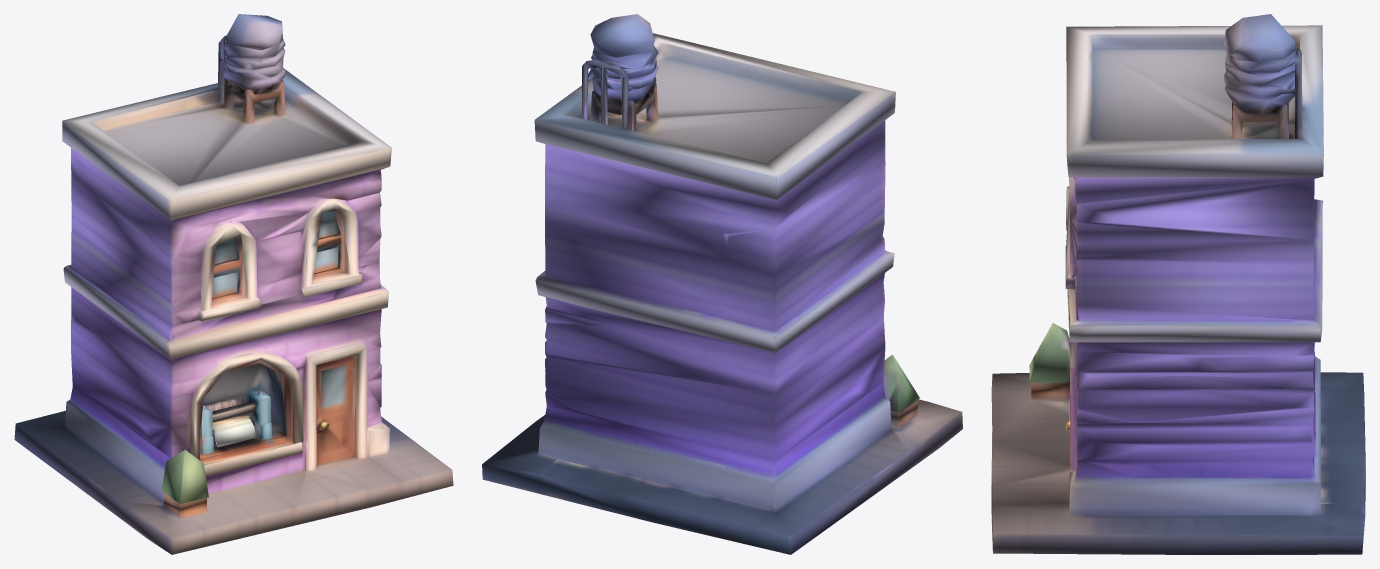
Rendered from matbaa.glb.
3 views of the same model, side by side, from view 1: azimuth 30°, elevation 25°; view 2: azimuth 150°, elevation 25°; view 3: azimuth 270°, elevation 25° (orthographic). The views are drawn at different scales.
Visible parts, largest first — view 1: node_0; view 2: node_0; view 3: node_0.
Boxes of the visible parts, left/top/right/bottom form: node_0: left=14, top=14, right=453, bottom=554; node_0: left=482, top=14, right=962, bottom=554; node_0: left=991, top=14, right=1365, bottom=554.
Size of the model in its own units: 0.6169 by 0.8524 by 0.5958.
1 material, 1 textured.
